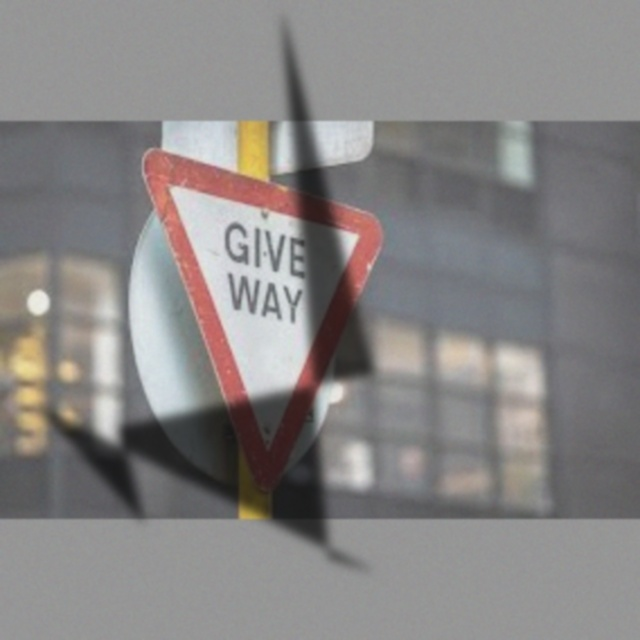Give_Way: (151, 152, 382, 493)
